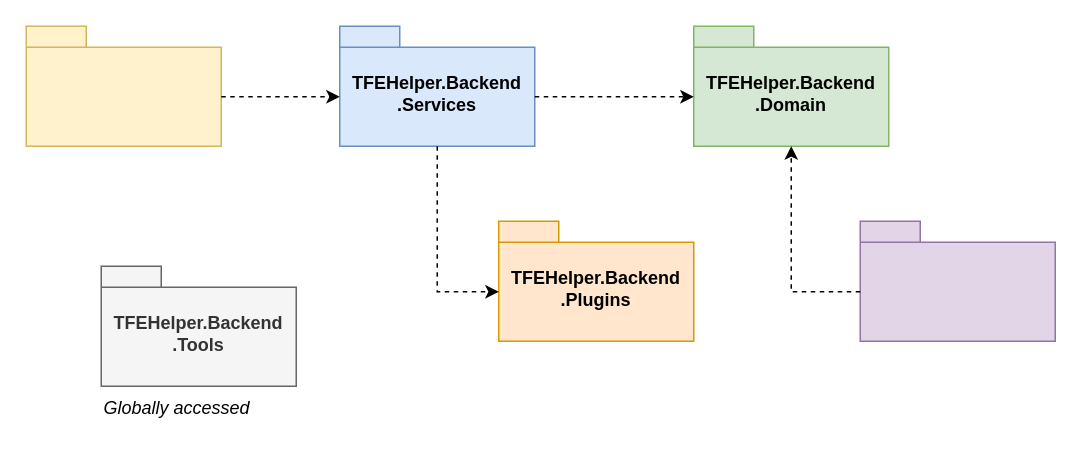
The diagram is 1082 pixels wide and 458 high, and some of its shapes have lost their labels. The shapes that lost their labels are listed below. From the top down, each one's centre as x and y in pixels, then its label:
At (123,85): "TFEHelper.Backend .API".
At (957,280): "TFEHelper.Backend .Infrastructure".
